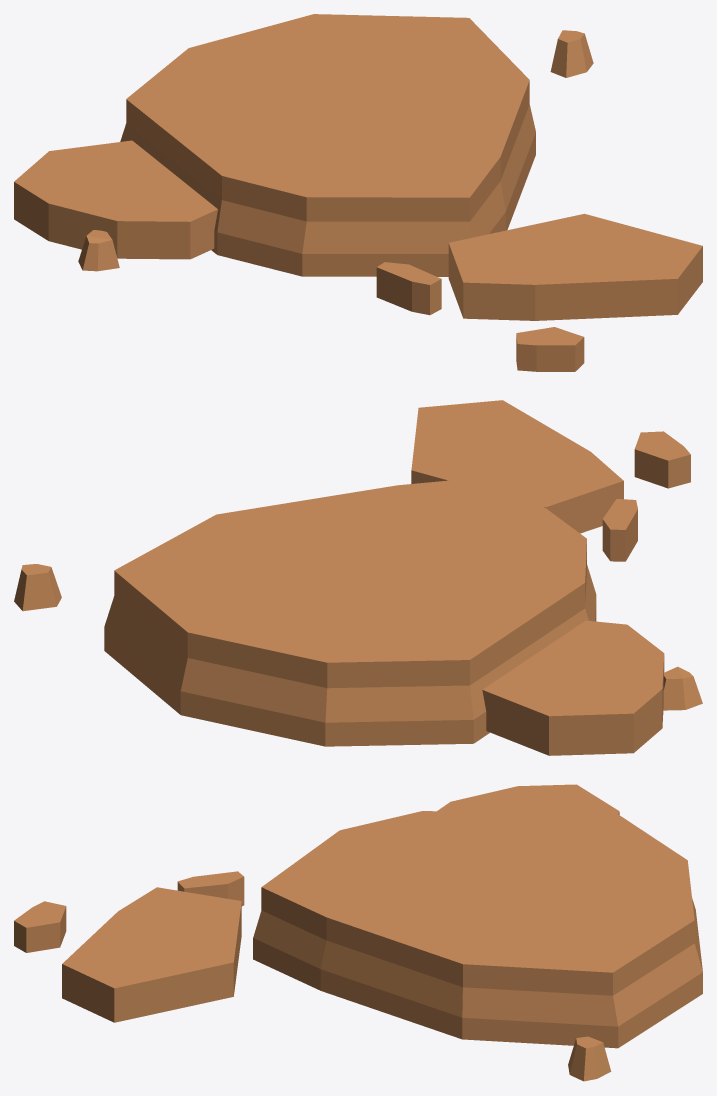
Rendered from SandRocks10_LOD1.fbx.
3 views of the same model, one above another, from view 1: azimuth 30°, elevation 25°; view 2: azimuth 150°, elevation 25°; view 3: azimuth 270°, elevation 25° (orthographic). The views are drawn at different scales.
Visible parts, largest first — view 1: 10; view 2: 10; view 3: 10.
Part boxes in pixels (left/top/right/bottom): 10: left=14, top=14, right=702, bottom=371; 10: left=14, top=400, right=702, bottom=755; 10: left=14, top=784, right=702, bottom=1081.
Size of the model in its own units: 125 by 15.6 by 134.
